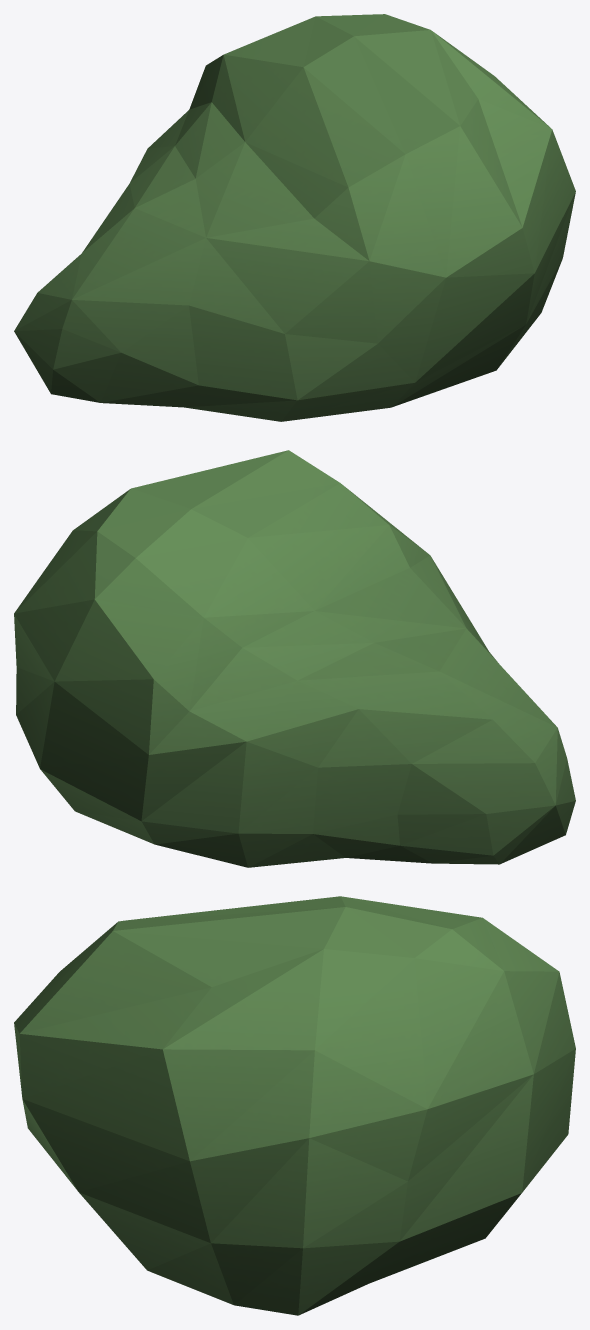
Rendered from Jungle_Bush_A.fbx.
3 renders of one model, top to bottom at view 1: azimuth 30°, elevation 25°; view 2: azimuth 150°, elevation 25°; view 3: azimuth 270°, elevation 25°, orthographic. The views are drawn at different scales.
Parts seen in each view (by area): view 1: Jungle_Bush_A; view 2: Jungle_Bush_A; view 3: Jungle_Bush_A.
Part boxes in pixels (bbox=[...]): Jungle_Bush_A: bbox=[14, 14, 575, 421]; Jungle_Bush_A: bbox=[14, 450, 575, 867]; Jungle_Bush_A: bbox=[14, 896, 575, 1315].
Bounding box in the file's own units: 1.72 × 0.8971 × 1.38.
